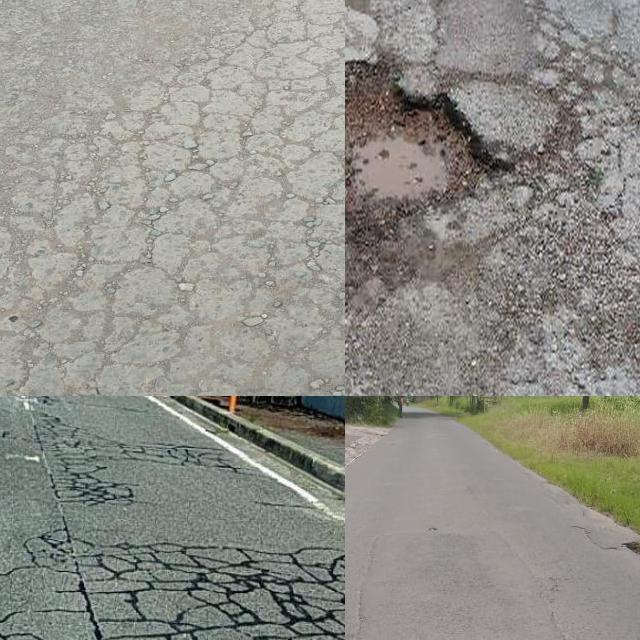Lubang: (345, 67, 505, 228)
Retak Buaya: (0, 0, 345, 396), (65, 549, 345, 640), (40, 429, 247, 476)
